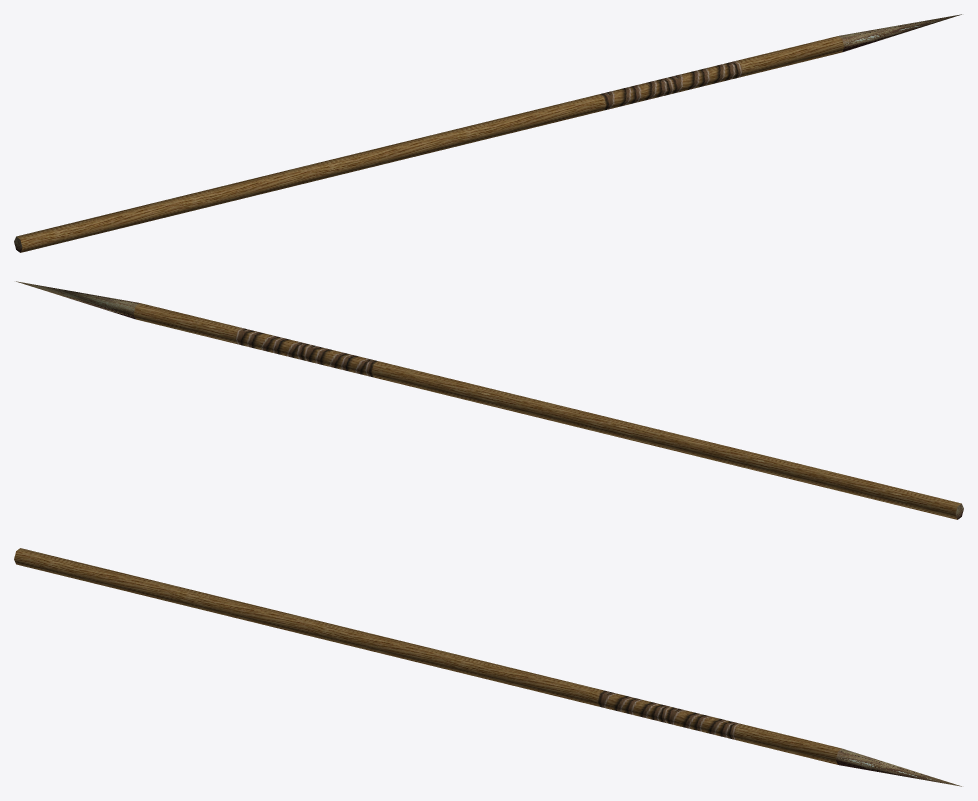
The picture shows the model from 3 angles, top to bottom: view 1: azimuth 30°, elevation 25°; view 2: azimuth 150°, elevation 25°; view 3: azimuth 330°, elevation 25°; orthographic projection.
Parts seen in each view (by area): view 1: it10101; view 2: it10101; view 3: it10101.
Part boxes in pixels (bbox=[...]): it10101: bbox=[14, 14, 961, 252]; it10101: bbox=[16, 281, 963, 519]; it10101: bbox=[14, 548, 961, 786].
Size of the model in its own units: 6.4 by 0.0864 by 0.1001.
3 materials, 3 textured.
